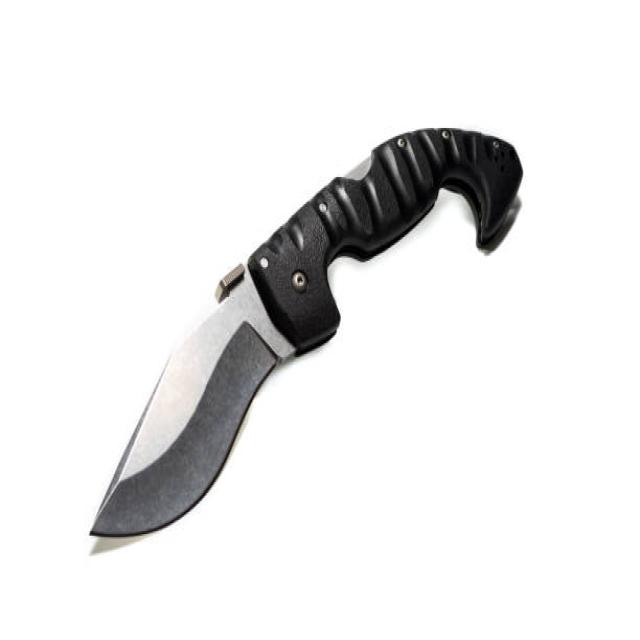knife: (85, 121, 527, 553)
